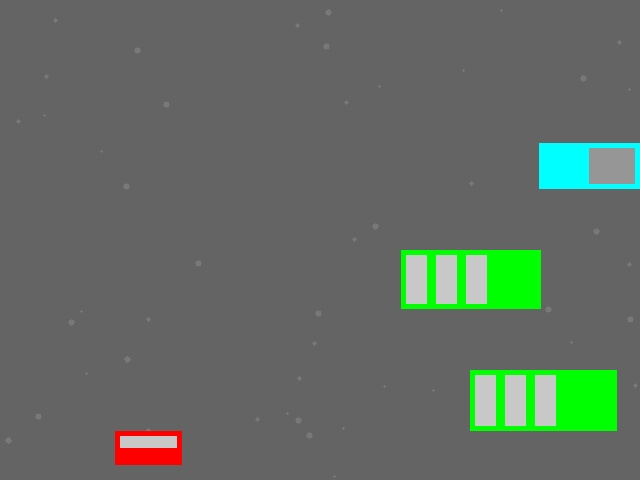bus: (470, 370, 616, 430), (401, 250, 540, 308)
car: (115, 431, 181, 464)
truck: (539, 143, 639, 188)
